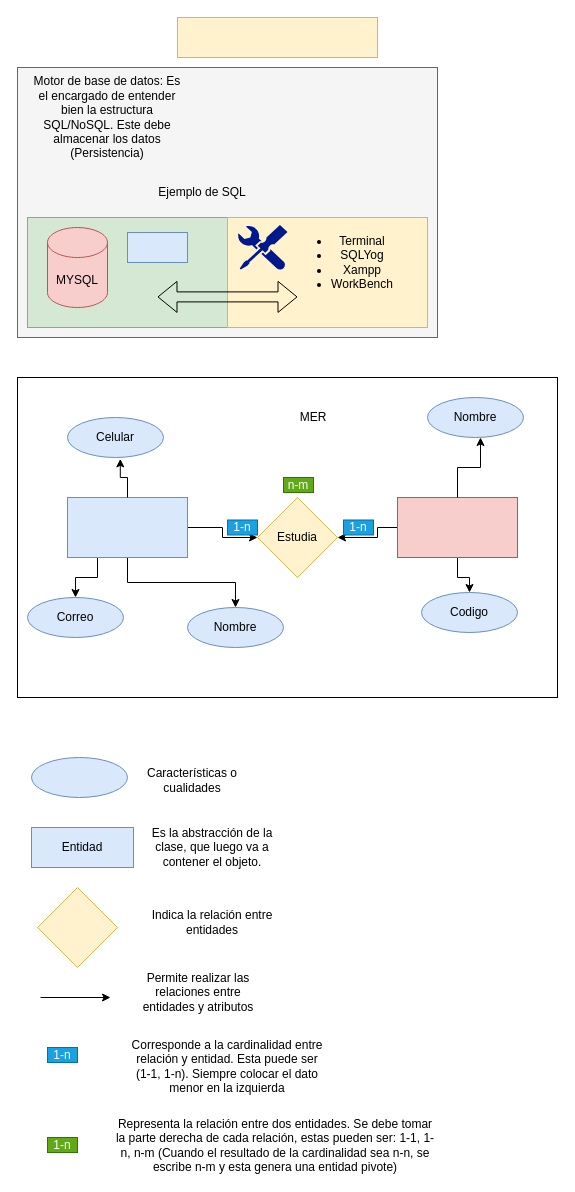
The diagram is 575 pixels wide and 1192 high, and some of its shapes have lost their labels. Here are the shapes that lost their labels. From the top down, the centre of each, then its label:
(x=277, y=37): Base de datos
(x=157, y=247): Motor
(x=127, y=527): Estudiante
(x=457, y=527): Materia
(x=79, y=777): Atributos
(x=77, y=927): Relación
